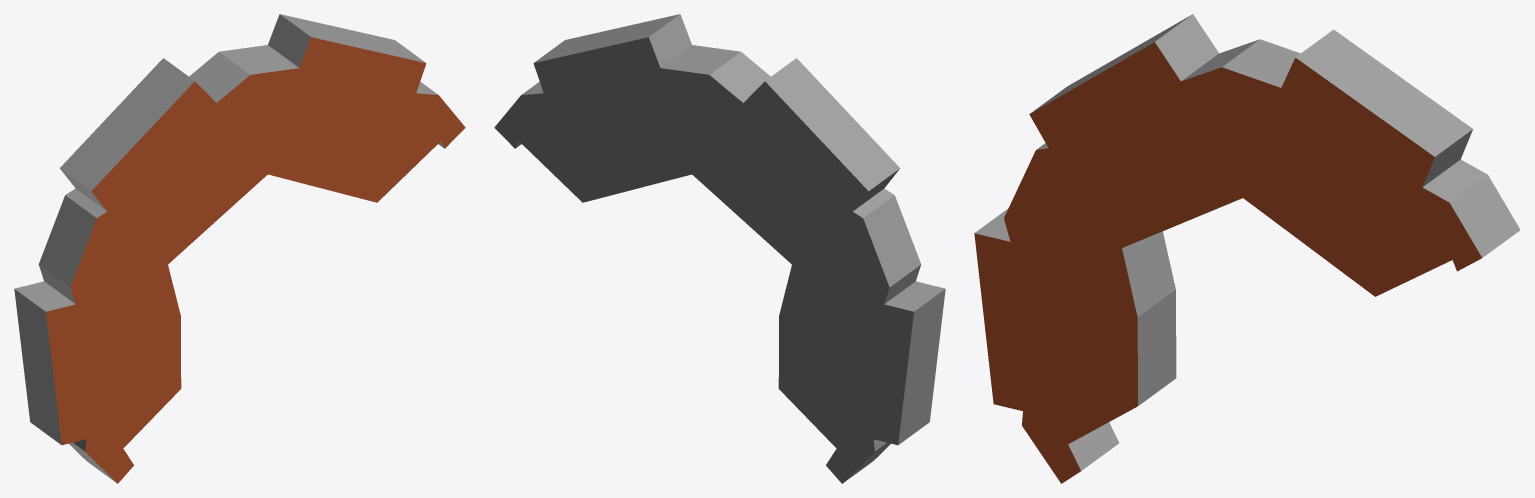
Rendered from construction_1564_assumed_A_Casa_h6m.obj.
3 views of the same model, side by side, from view 1: azimuth 30°, elevation 25°; view 2: azimuth 150°, elevation 25°; view 3: azimuth 330°, elevation 25° (orthographic). The views are drawn at different scales.
Parts seen in each view (by area): view 1: construction_1564_assumed_A_Casa; view 2: construction_1564_assumed_A_Casa; view 3: construction_1564_assumed_A_Casa.
Part boxes in pixels (bbox=[...]): construction_1564_assumed_A_Casa: bbox=[14, 14, 465, 483]; construction_1564_assumed_A_Casa: bbox=[494, 14, 945, 483]; construction_1564_assumed_A_Casa: bbox=[974, 14, 1520, 483].
Size of the model in its own units: 45.96 by 41.81 by 6.
